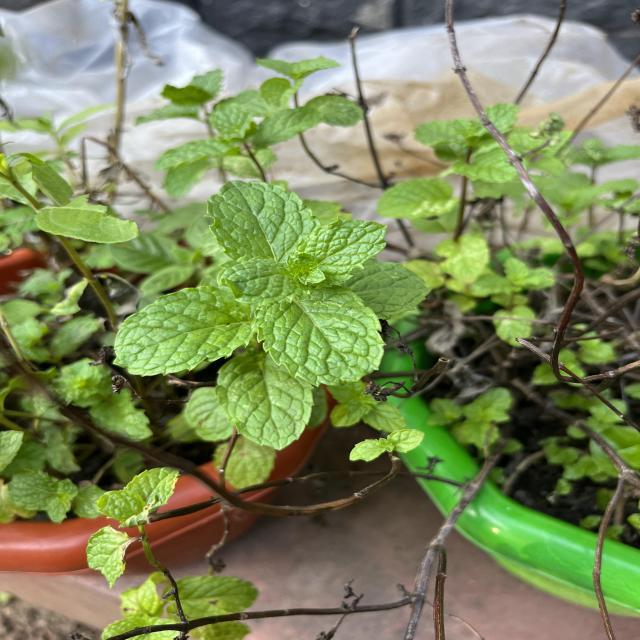Mentha spicata: (252, 285, 386, 389), (111, 285, 254, 378), (214, 352, 318, 451), (205, 180, 322, 262), (293, 218, 389, 288)
